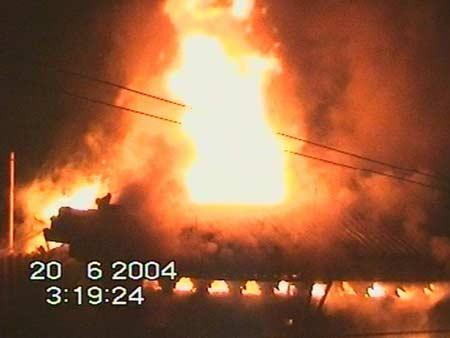fire: (149, 17, 318, 235)
